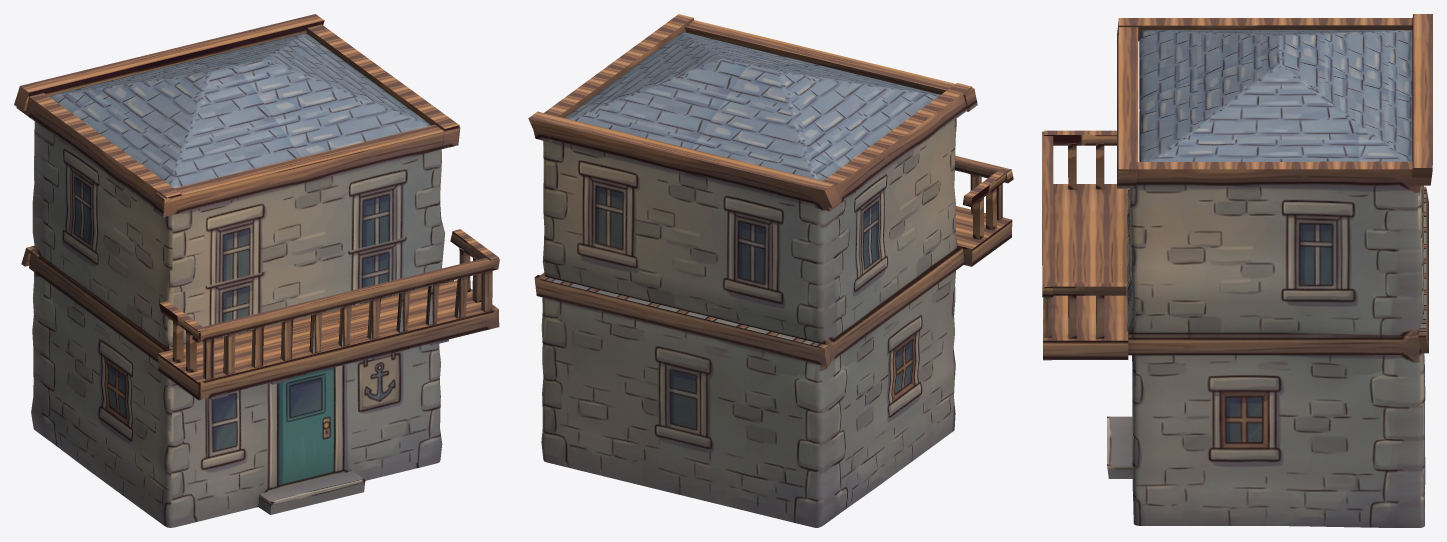
Rendered from maison_port.glb.
The picture shows the model from 3 angles, left to right: view 1: azimuth 30°, elevation 25°; view 2: azimuth 150°, elevation 25°; view 3: azimuth 270°, elevation 25°; orthographic projection. The views are drawn at different scales.
Parts seen in each view (by area): view 1: maison; view 2: maison; view 3: maison.
Boxes of the visible parts, left/top/right/bottom form: maison: left=14, top=14, right=499, bottom=527; maison: left=528, top=14, right=1013, bottom=527; maison: left=1042, top=14, right=1432, bottom=527.
Size of the model in its own units: 5.36 by 6.4 by 5.59.
Materials: 1 (1 with a texture image).
